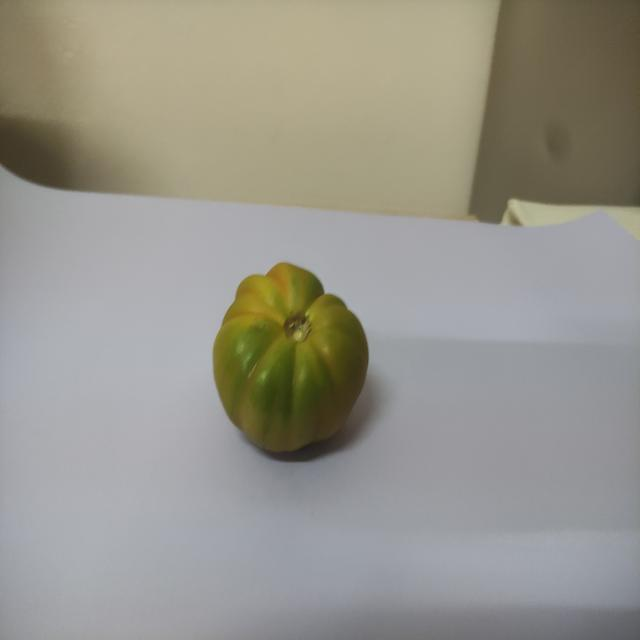yesil: (195, 254, 381, 474)
